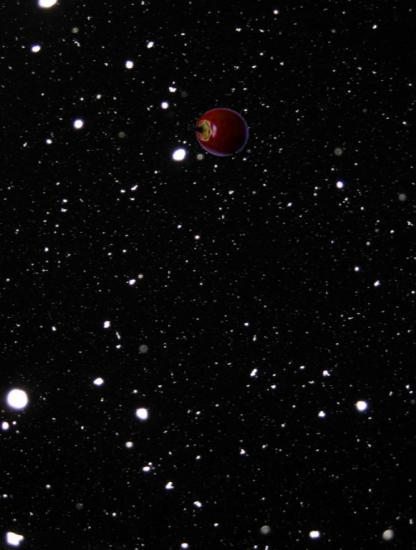Tamarillo: (191, 104, 250, 163)
